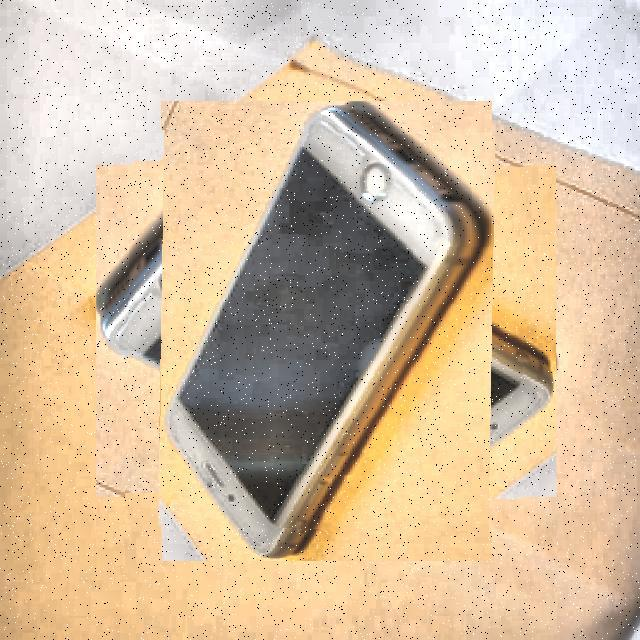Phone: (127, 132, 526, 531)
